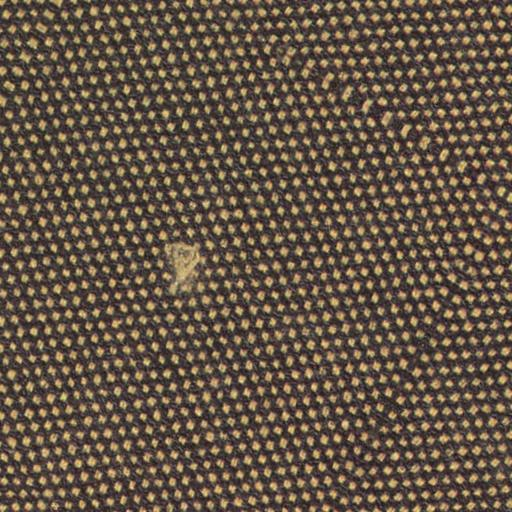knot: (162, 232, 207, 307)
